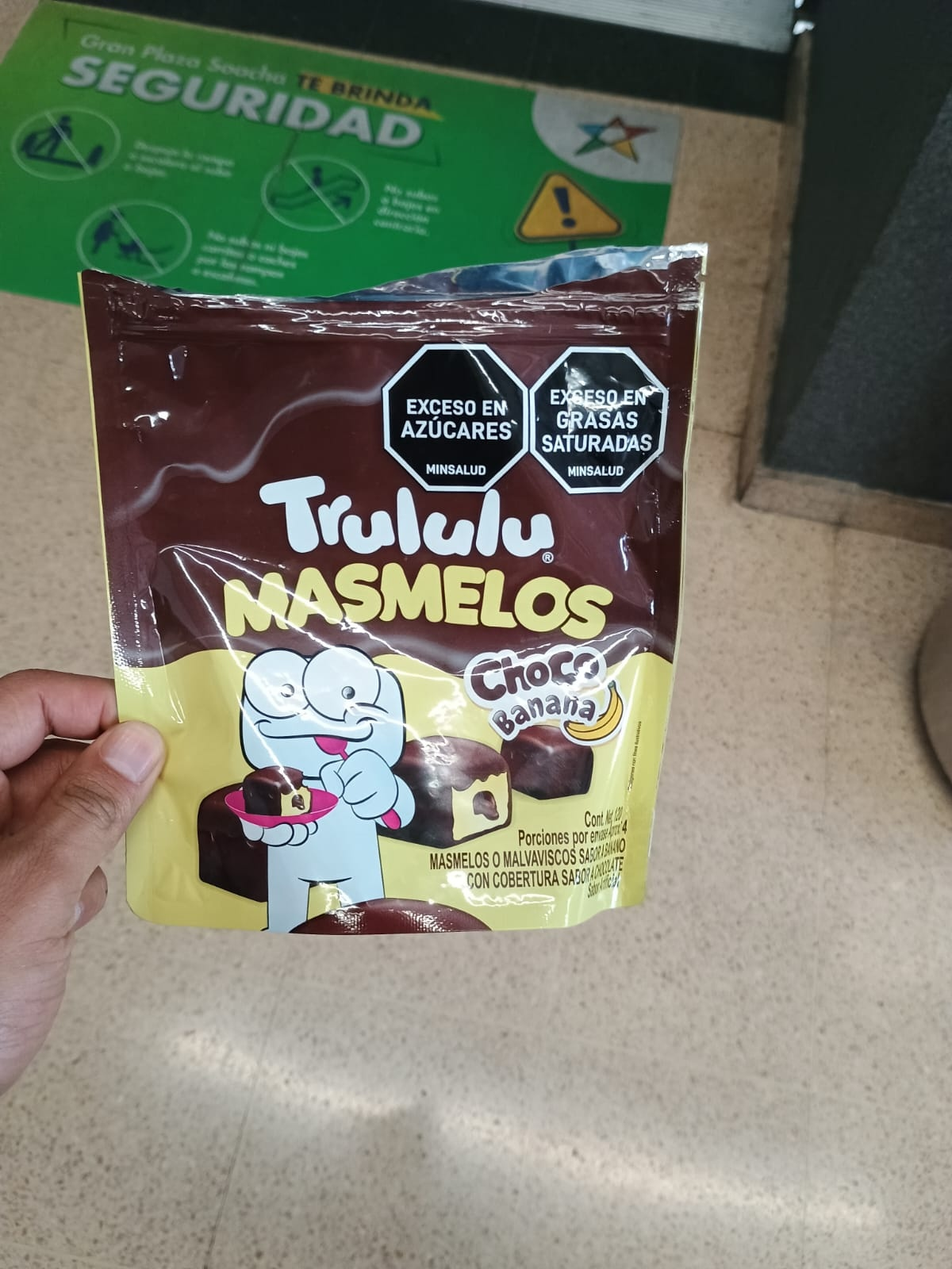Ordinario: (78, 242, 705, 929)
